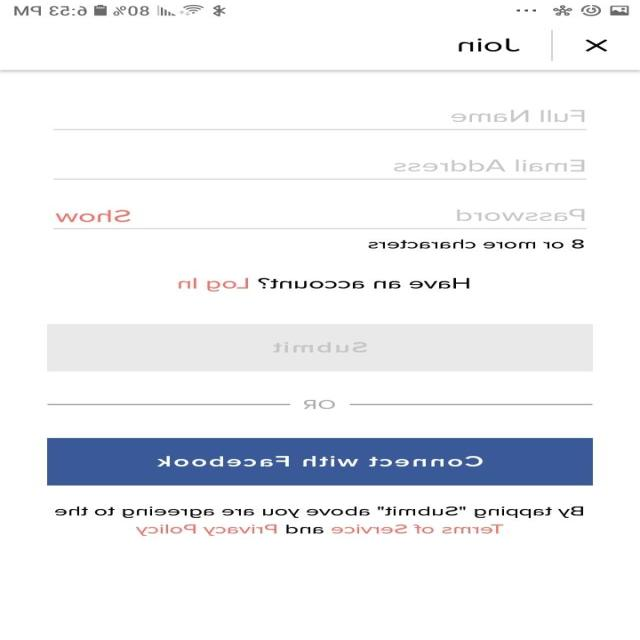EditText: (53, 109, 588, 131), (53, 159, 588, 180), (53, 208, 588, 229)
Icon: (585, 39, 608, 52)
Text: (55, 506, 584, 536), (178, 277, 471, 292), (394, 159, 585, 172), (369, 239, 585, 249), (456, 208, 585, 222), (451, 110, 585, 122), (56, 210, 131, 222), (458, 38, 520, 52), (303, 399, 336, 409)
TextButton: (48, 323, 594, 372), (47, 438, 593, 486)
